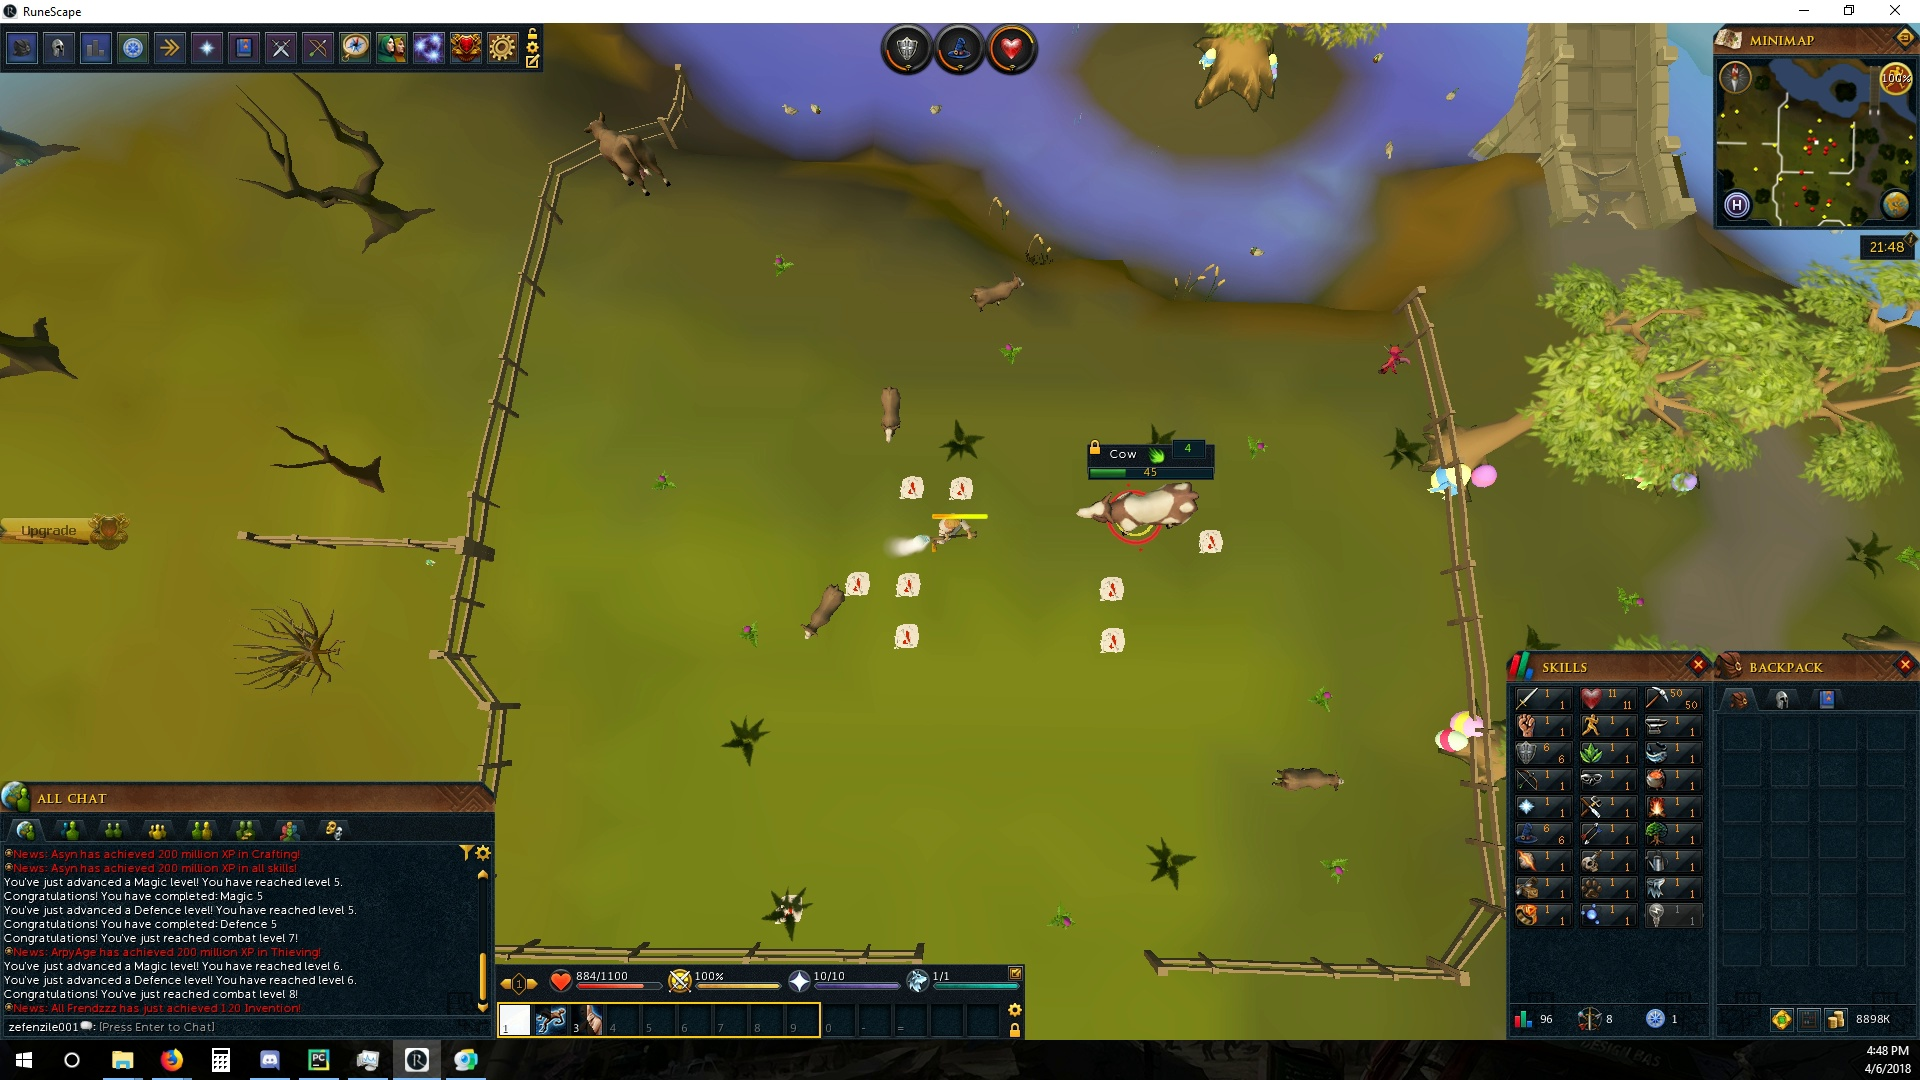calf: (796, 584, 848, 642), (967, 274, 1031, 316), (1273, 764, 1352, 794), (877, 384, 905, 447)
cow: (582, 109, 676, 196), (1075, 480, 1201, 534)
cow_drop: (1092, 626, 1131, 653), (1195, 524, 1226, 556), (890, 621, 924, 650), (894, 475, 927, 502), (945, 475, 978, 502), (891, 568, 922, 597), (843, 570, 873, 597), (1097, 574, 1127, 601)
